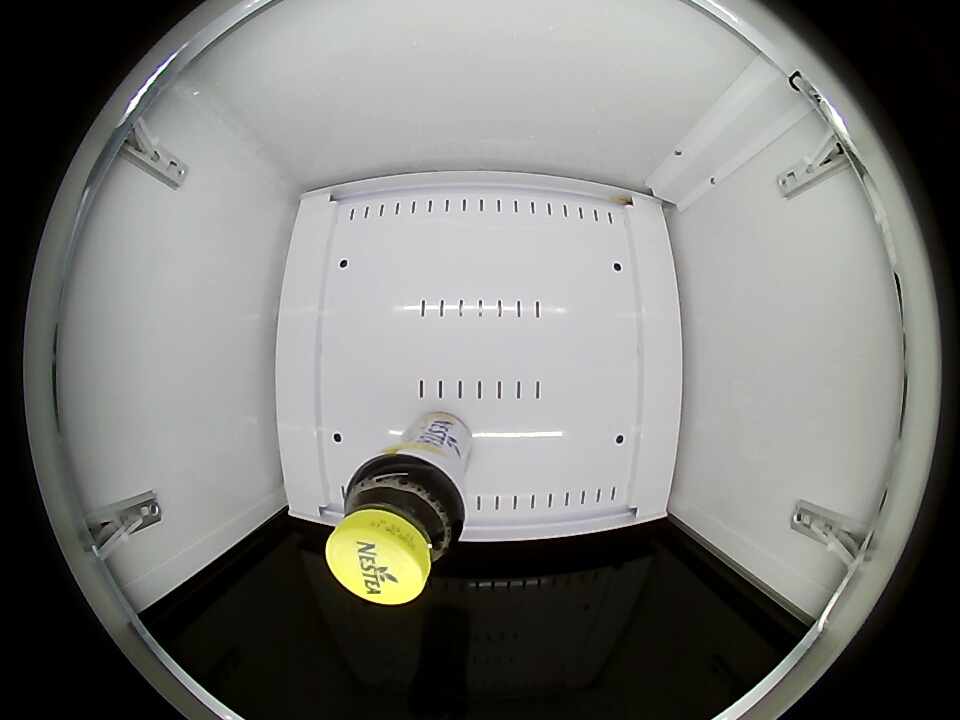chacui: (326, 456, 465, 605)
